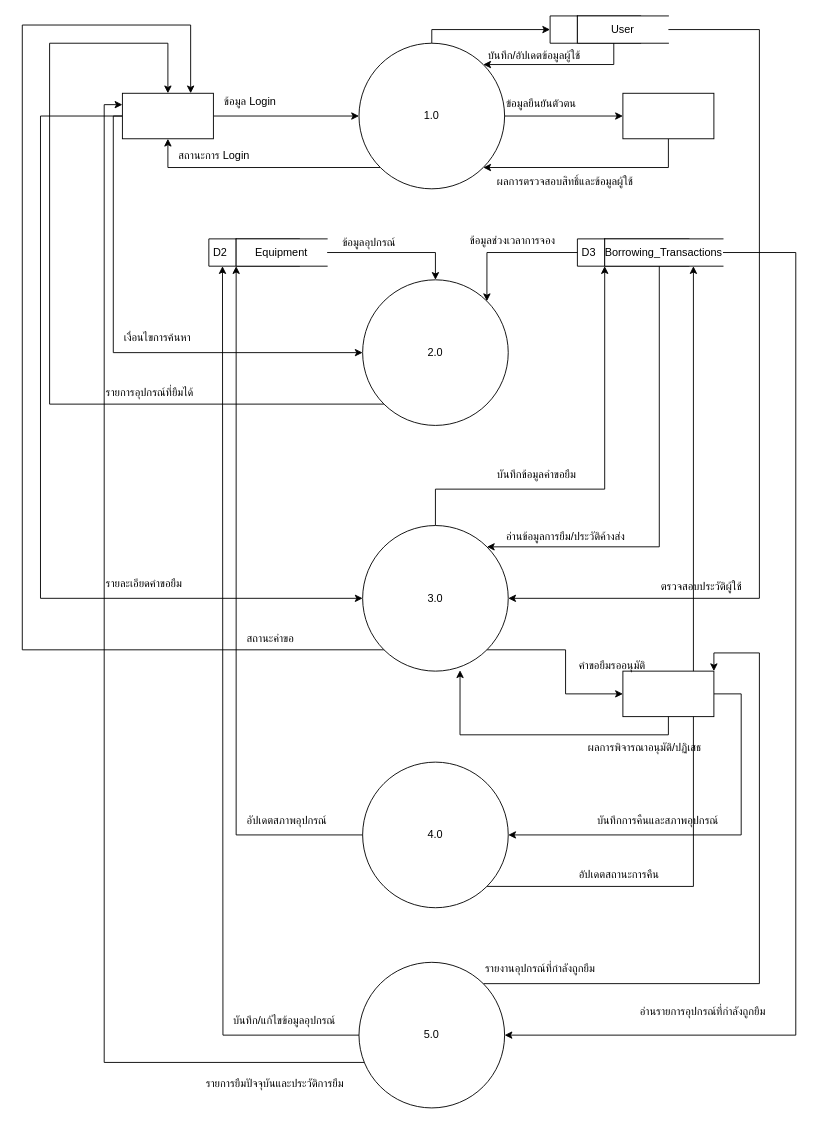
This 827x1124 diagram has some shape labels left out. The shapes that lost their labels are listed below. From the top down, each one's box as (x1, y1, x2, y2) in pixels, then its label:
(549, 15, 641, 43): D1
(121, 92, 213, 139): ผู้ยืม
(622, 92, 714, 139): ระบบบัญชีมหาวิทยาลัย
(622, 670, 714, 717): เจ้าหน้าที่
